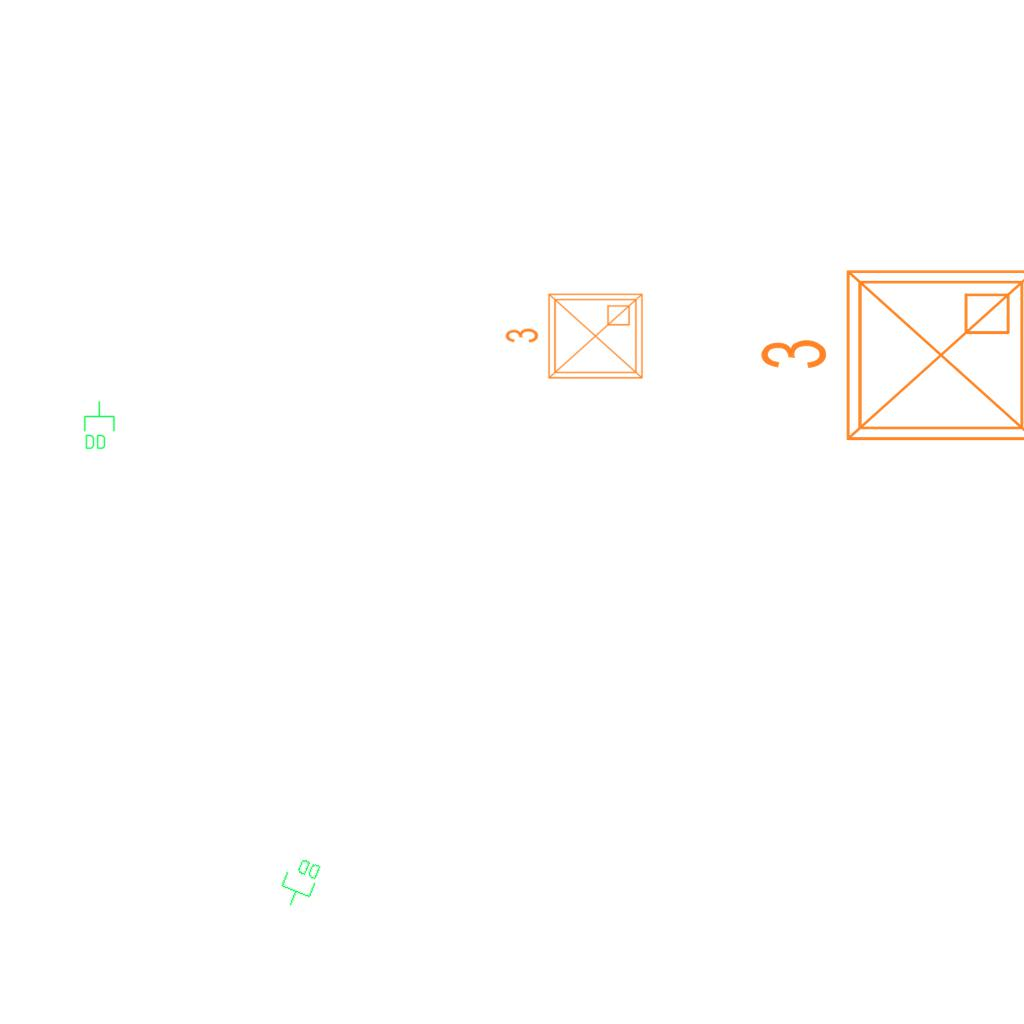Datenanschluss_zweifach: (274, 852, 325, 914), (82, 400, 116, 451)
Einbaudownlights_LED_Konferenzraeume: (750, 255, 1024, 463), (500, 286, 650, 390)
